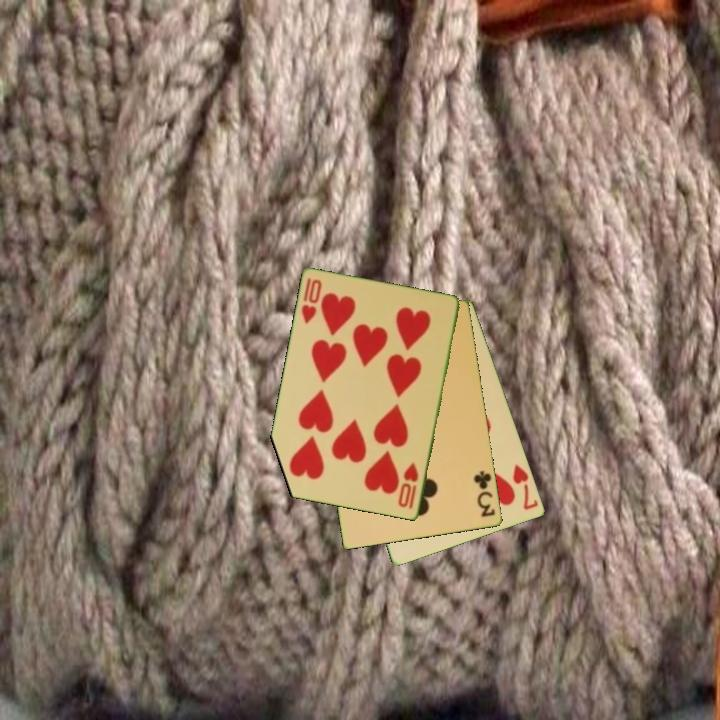10h: (395, 459, 422, 512), (298, 274, 325, 327)
3c: (470, 467, 498, 520)
7h: (509, 461, 541, 513)
